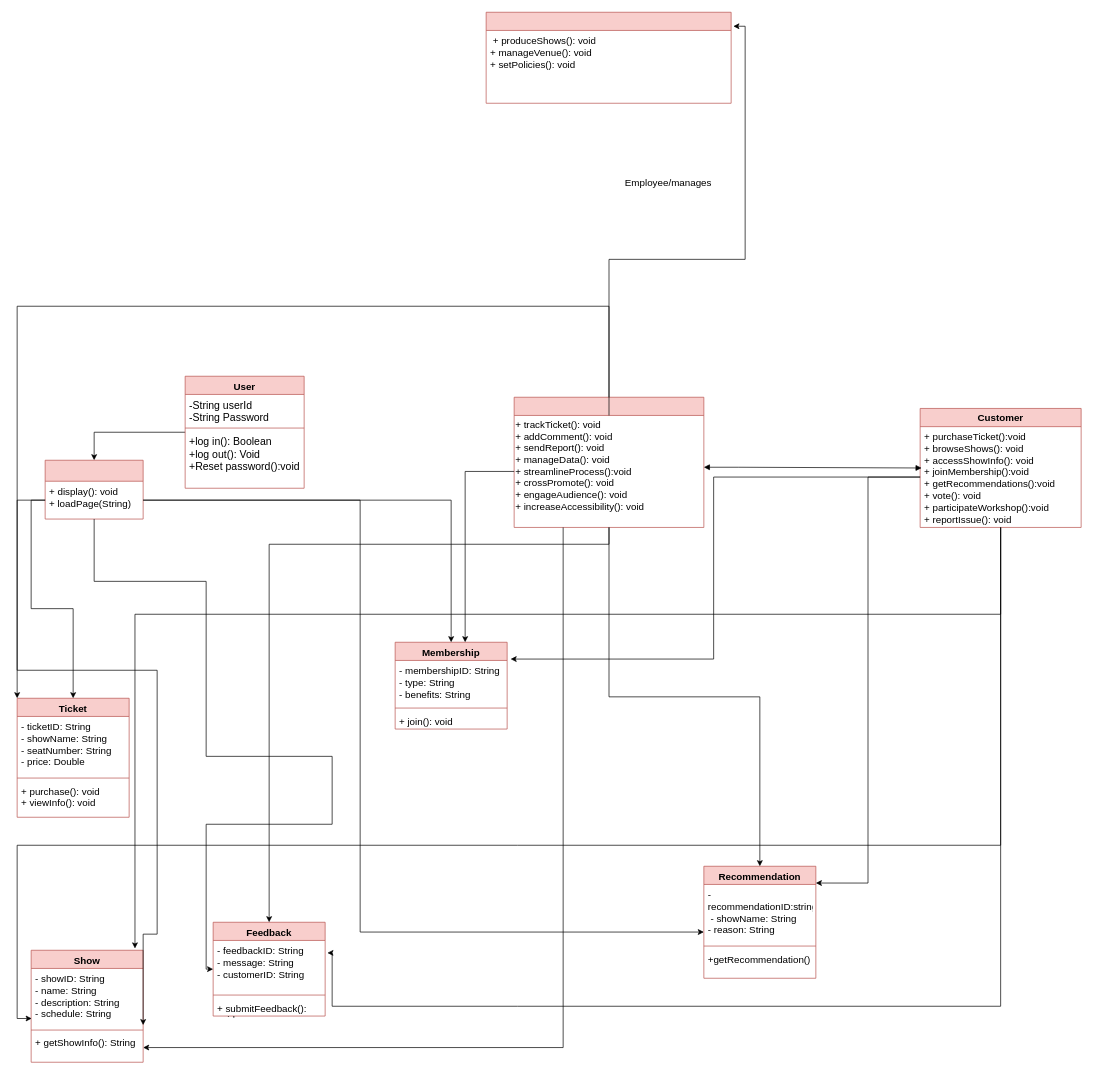
The diagram is 1093 pixels wide and 1077 high, and some of its shapes have lost their labels. Each missing label, with the box of its shape:
Box Office Manager: (513, 397, 704, 527)
Dashboard: (44, 460, 143, 519)
Theatre Company: (485, 12, 731, 103)
